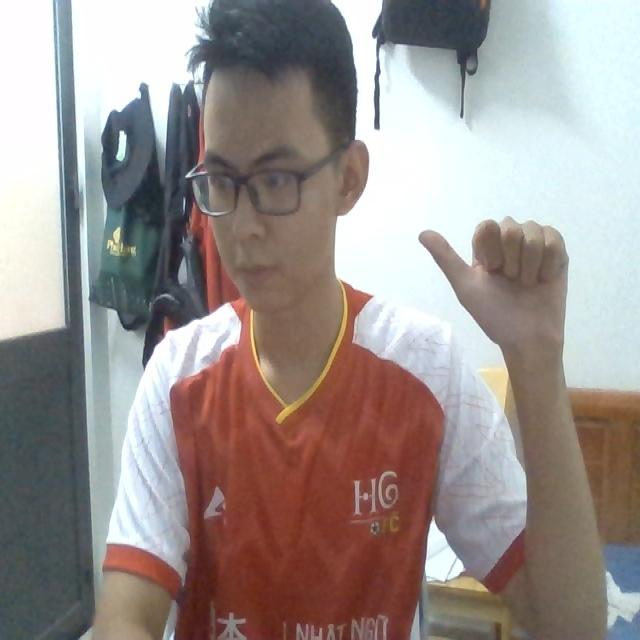A: (417, 211, 576, 365)
